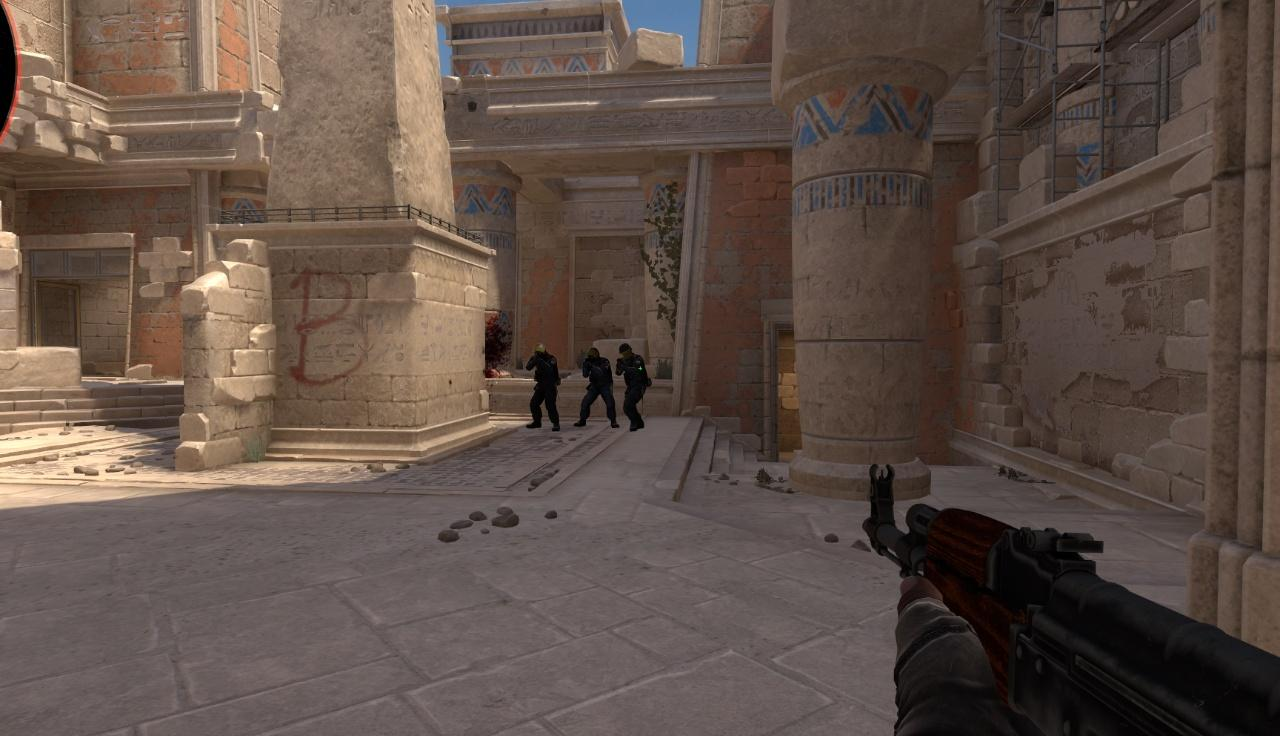ct: (581, 347, 616, 426), (529, 344, 559, 431), (618, 344, 647, 431)
cthead: (619, 344, 633, 359), (535, 344, 547, 359), (588, 347, 599, 362)
rifle: (870, 468, 1280, 736)
